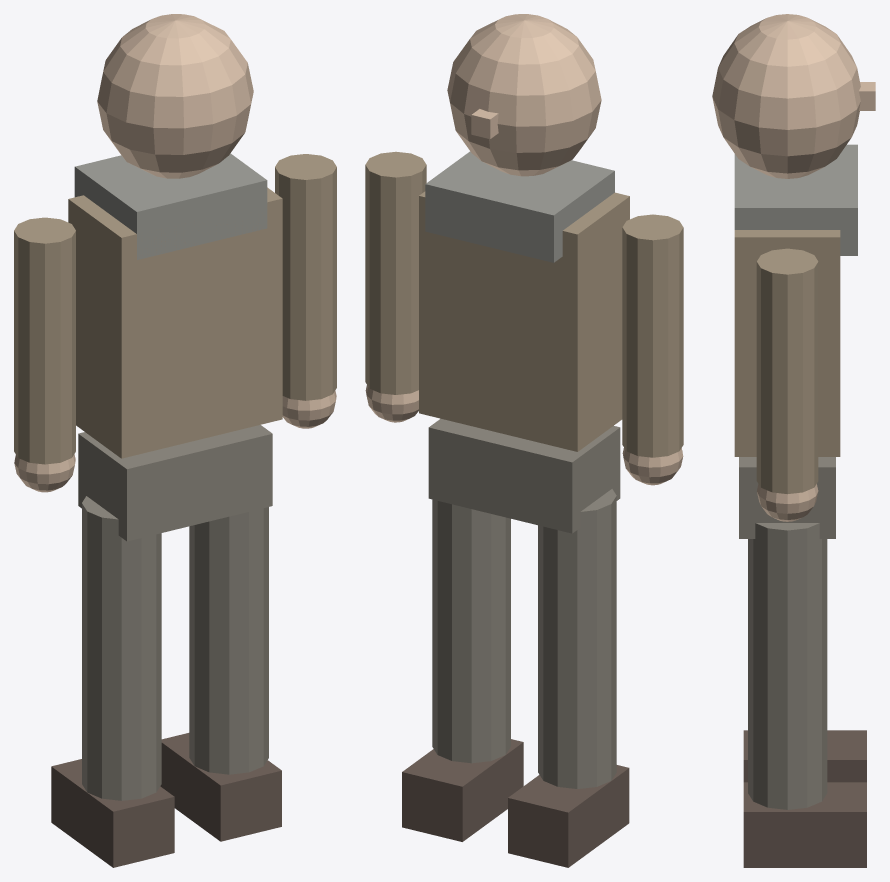
Rendered from humanoid_scavenger.glb.
The picture shows the model from 3 angles, left to right: view 1: azimuth 30°, elevation 25°; view 2: azimuth 150°, elevation 25°; view 3: azimuth 270°, elevation 25°; orthographic projection.
Visible parts, largest first — view 1: Torso, Leg_L, Leg_R, Head, Pelvis, Arm_L, Arm_R, Scarf, Boot_L, Boot_R, Hand_L, Hand_R; view 2: Torso, Leg_L, Leg_R, Head, Pelvis, Arm_L, Scarf, Arm_R, Boot_L, Boot_R, Hand_L, Hand_R (+1 smaller); view 3: Leg_R, Head, Arm_R, Torso, Boot_R, Scarf, Pelvis, Boot_L, Hand_R, Nose.
Boxes of the visible parts, x1,y1,x2,y2 form: Torso: (68,187,282,458); Leg_L: (82,496,161,800); Leg_R: (189,507,268,774); Head: (97,14,253,178); Pelvis: (78,425,272,541); Arm_L: (14,217,75,464); Arm_R: (275,154,336,400); Scarf: (74,153,267,259); Boot_L: (51,759,174,867); Boot_R: (160,733,281,841); Hand_L: (14,454,75,492); Hand_R: (282,390,336,428); Torso: (419,191,629,451); Leg_L: (538,489,616,788); Leg_R: (432,499,510,763); Head: (447,14,601,176); Pelvis: (428,418,620,533); Arm_L: (622,214,683,457); Scarf: (425,151,614,262); Arm_R: (365,151,426,394); Boot_L: (508,765,629,867); Boot_R: (402,739,523,841); Hand_L: (622,448,683,485); Hand_R: (365,385,418,422); Leg_R: (748,523,827,809); Head: (712,14,860,178); Arm_R: (756,248,818,494); Torso: (734,230,840,456); Boot_R: (743,782,866,867); Scarf: (734,144,857,255); Pelvis: (739,457,835,538); Boot_L: (743,730,866,782); Hand_R: (757,484,818,521); Nose: (859,82,875,110).
Bounding box in the file's own units: 0.82 × 2.02 × 0.371.
